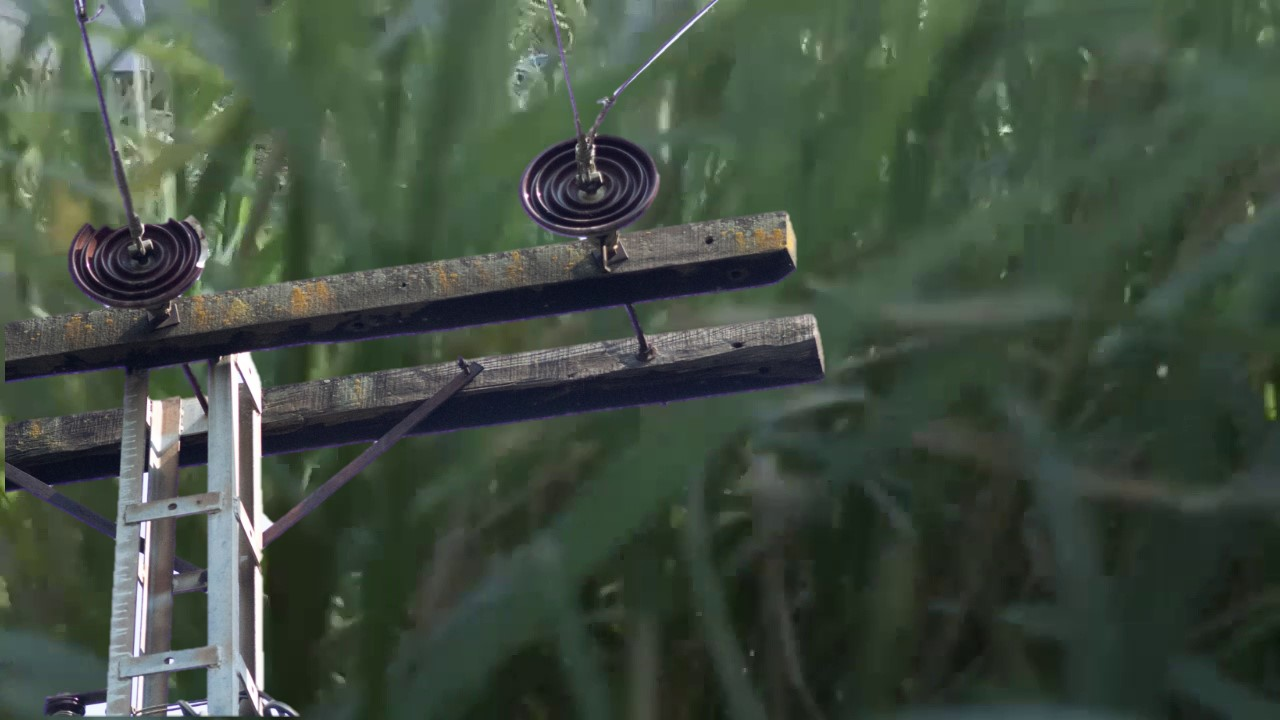defect_disc: (66, 210, 211, 315)
insulator_disc: (515, 131, 664, 237)
